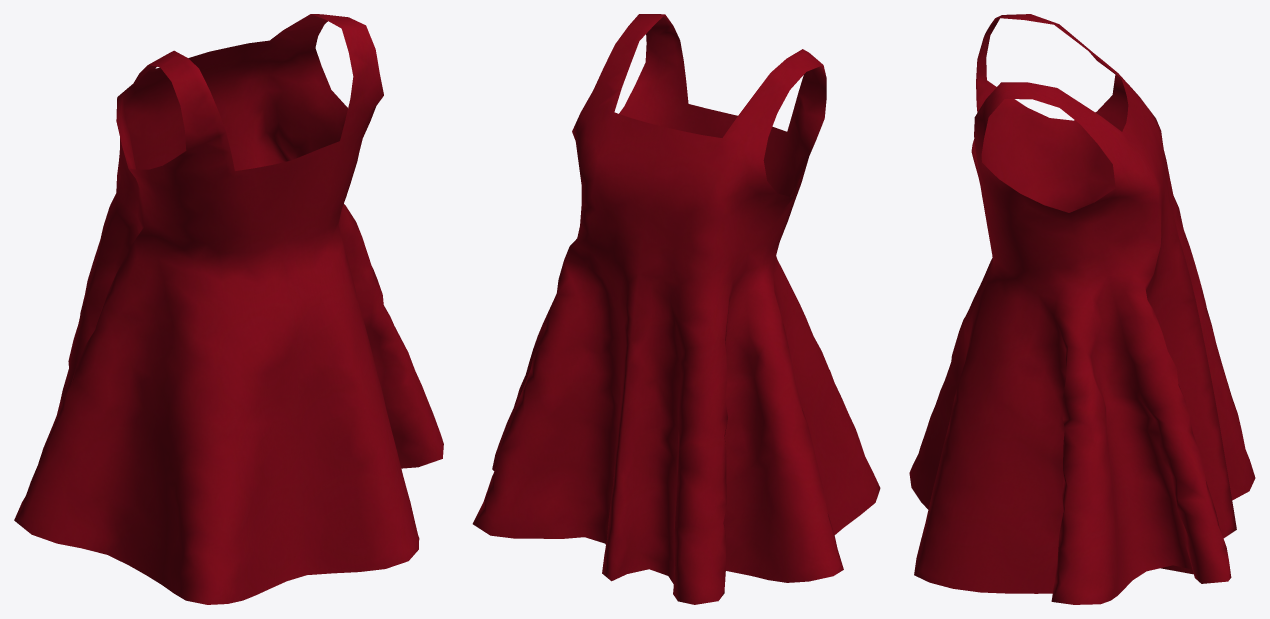
Rendered from dress03.glb.
3 views of the same model, side by side, from view 1: azimuth 30°, elevation 25°; view 2: azimuth 150°, elevation 25°; view 3: azimuth 270°, elevation 25° (orthographic). The views are drawn at different scales.
Parts seen in each view (by area): view 1: mother; view 2: mother; view 3: mother.
Part boxes in pixels (x1=…): mother: x1=14, y1=14, x2=443, y2=604; mother: x1=472, y1=14, x2=880, y2=604; mother: x1=909, y1=14, x2=1255, y2=604.
Size of the model in its own units: 0.8937 by 1.12 by 0.7106.
1 material, 1 textured.
